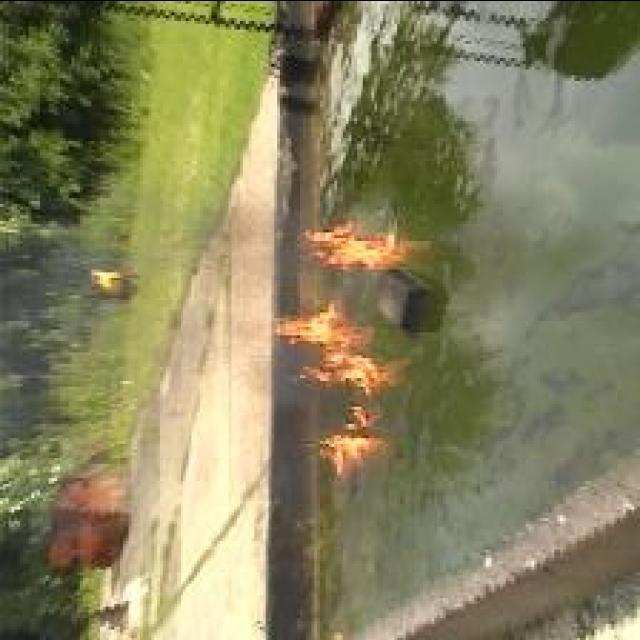Fire: (273, 298, 393, 391), (302, 218, 402, 270), (311, 406, 378, 468)
